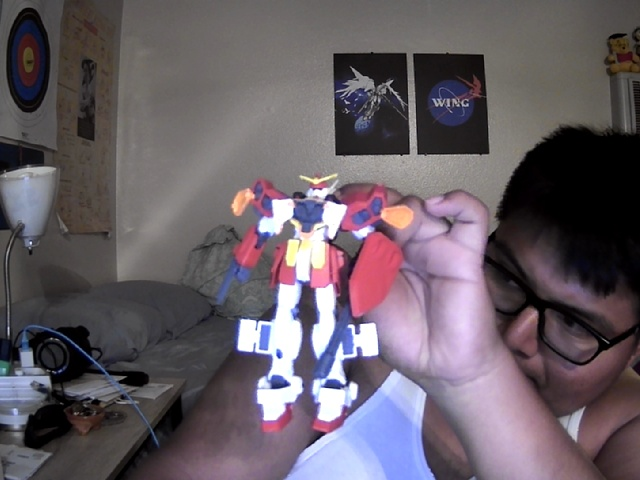Deatharms: (212, 172, 415, 433)
